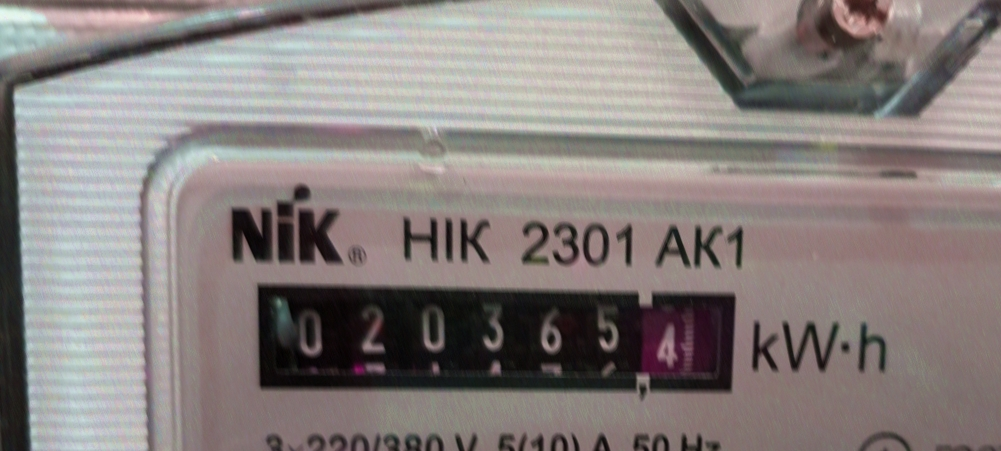0: (293, 304, 327, 359), (419, 302, 449, 353)
2: (357, 302, 388, 353)
3: (478, 302, 507, 351)
4: (654, 319, 678, 368)
5: (595, 304, 622, 351)
6: (537, 303, 564, 354)
screen: (242, 266, 752, 412)
